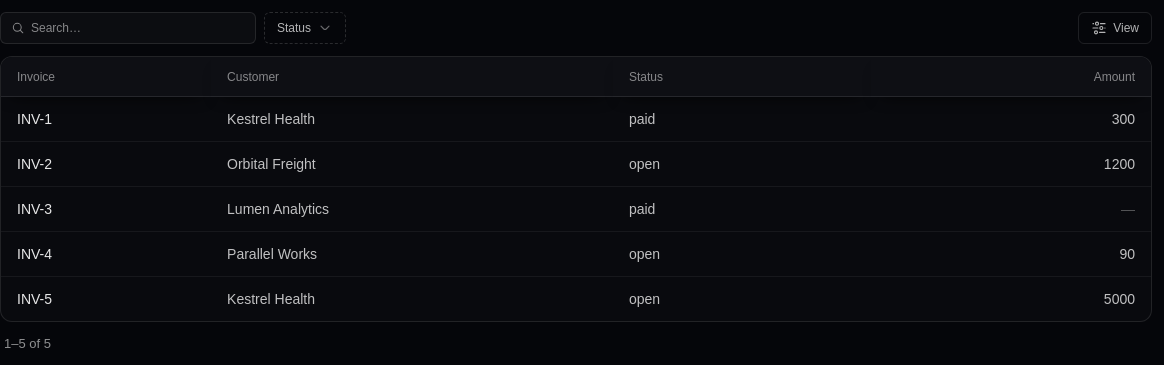
it: DataTable › searches every column and lights the match
Step 1. Type "kestrel" into the search field named "Search invoices" → (140, 28), box [25, 13, 255, 43]
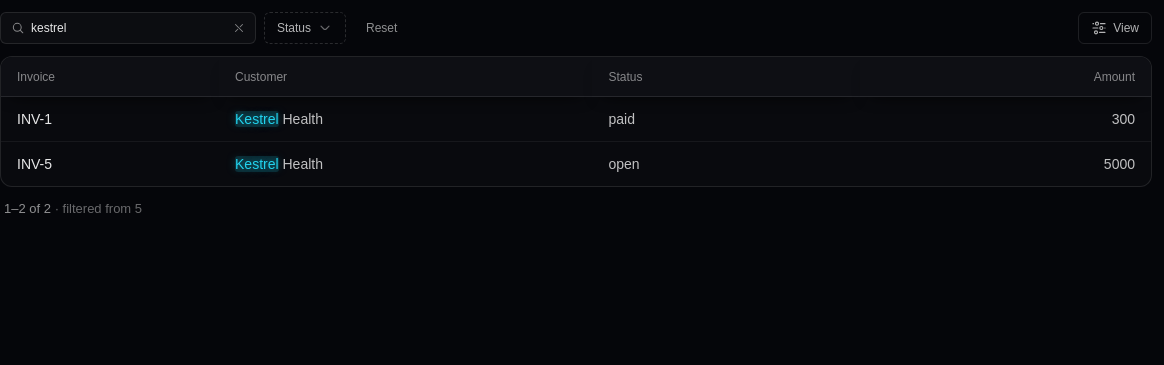
Result: the text "Kestrel" is shown 2 times at [235, 111, 279, 127]; [235, 156, 279, 172]
